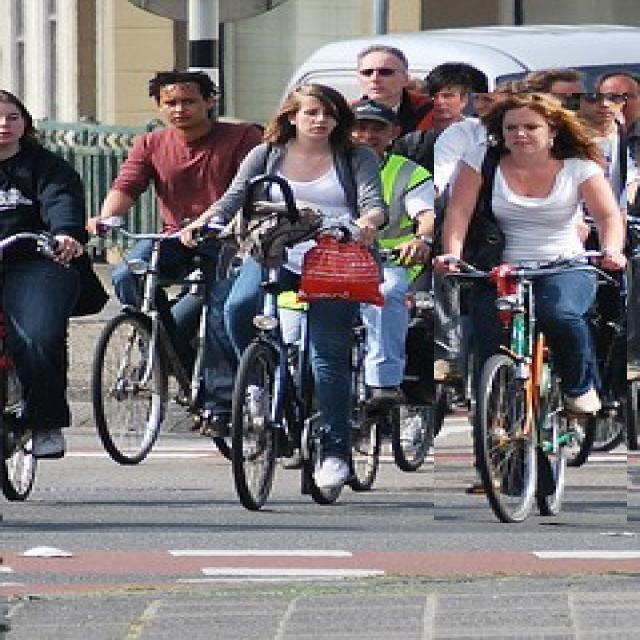bicycle: (181, 85, 386, 508), (434, 94, 626, 523), (89, 71, 261, 464)
